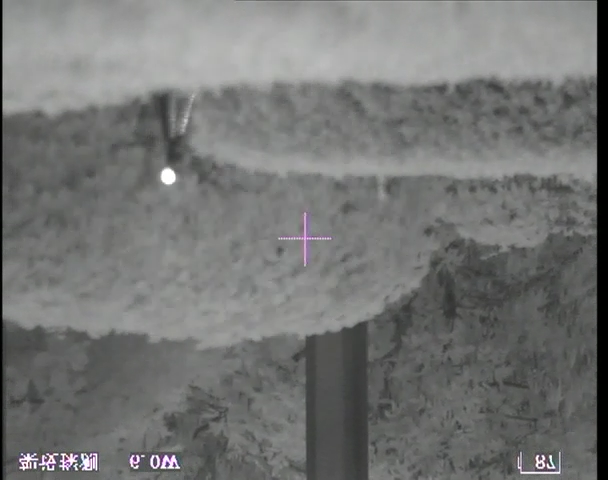my: (159, 166, 177, 186)
